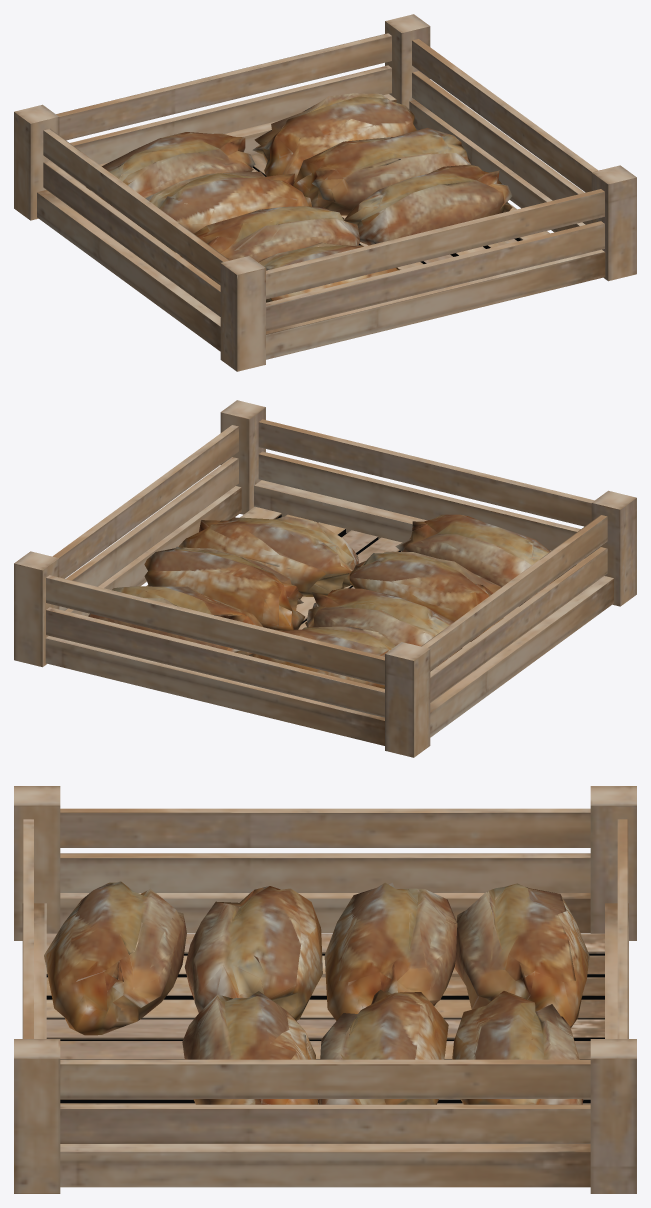
File: MS_BreadStack7.fbx
3 renders of one model, top to bottom at view 1: azimuth 30°, elevation 25°; view 2: azimuth 150°, elevation 25°; view 3: azimuth 270°, elevation 25°, orthographic. The views are drawn at different scales.
Parts seen in each view (by area): view 1: Cube.000; view 2: Cube.000; view 3: Cube.000.
Part boxes in pixels (left/top/right/bottom): Cube.000: left=14, top=14, right=636, bottom=371; Cube.000: left=14, top=400, right=636, bottom=757; Cube.000: left=14, top=786, right=636, bottom=1193.
Bounding box in the file's own units: 903 × 209 × 872.
Materials: 1 (1 with a texture image).
